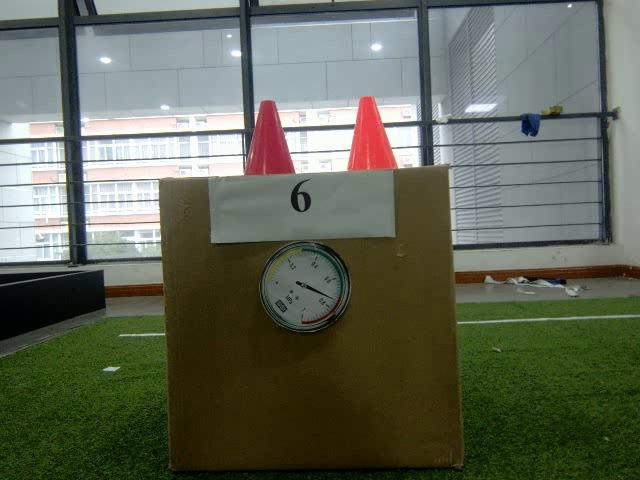6: (283, 176, 314, 215)
Dashboard: (256, 242, 353, 336)
orange_barrel: (346, 96, 399, 173)
red_barrel: (240, 97, 300, 178)
ssi: (274, 296, 288, 316)
